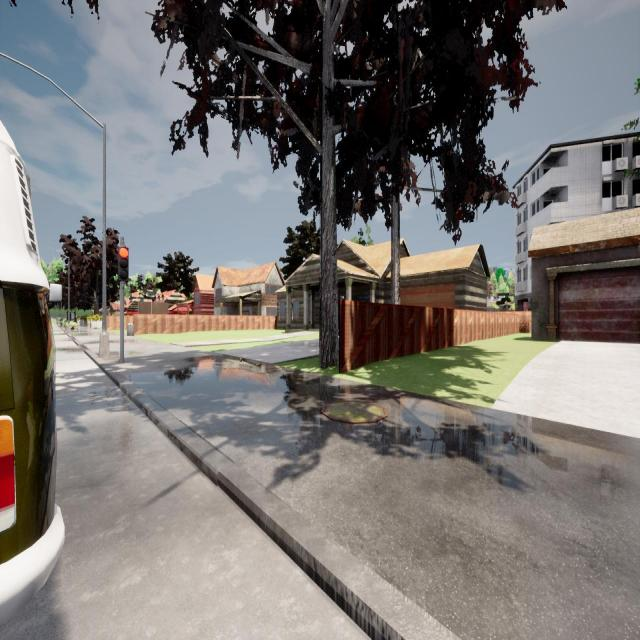Vehicle: (0, 116, 64, 624)
traffic_light: (118, 248, 129, 282)
